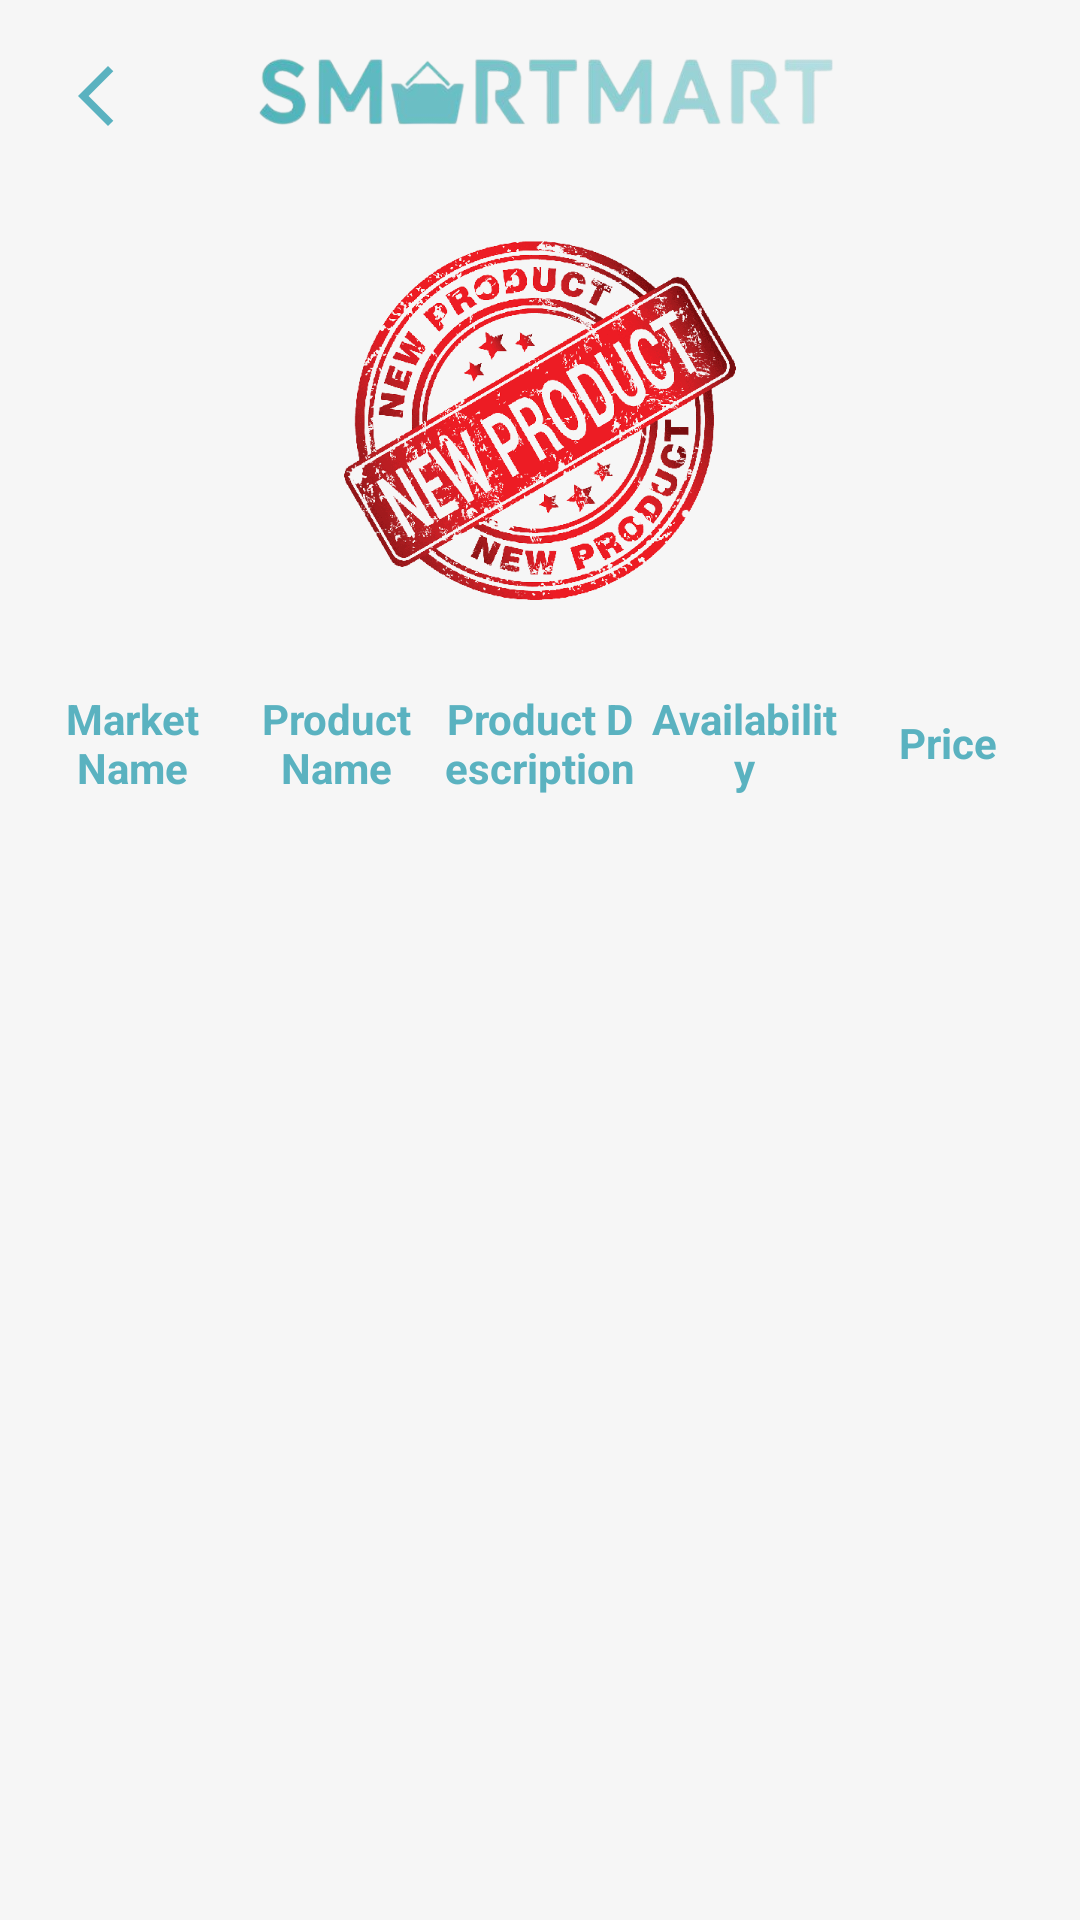

Point at icon controls on the screen. Image size 1080×1920, points as [x,y].
back: [95,96]
